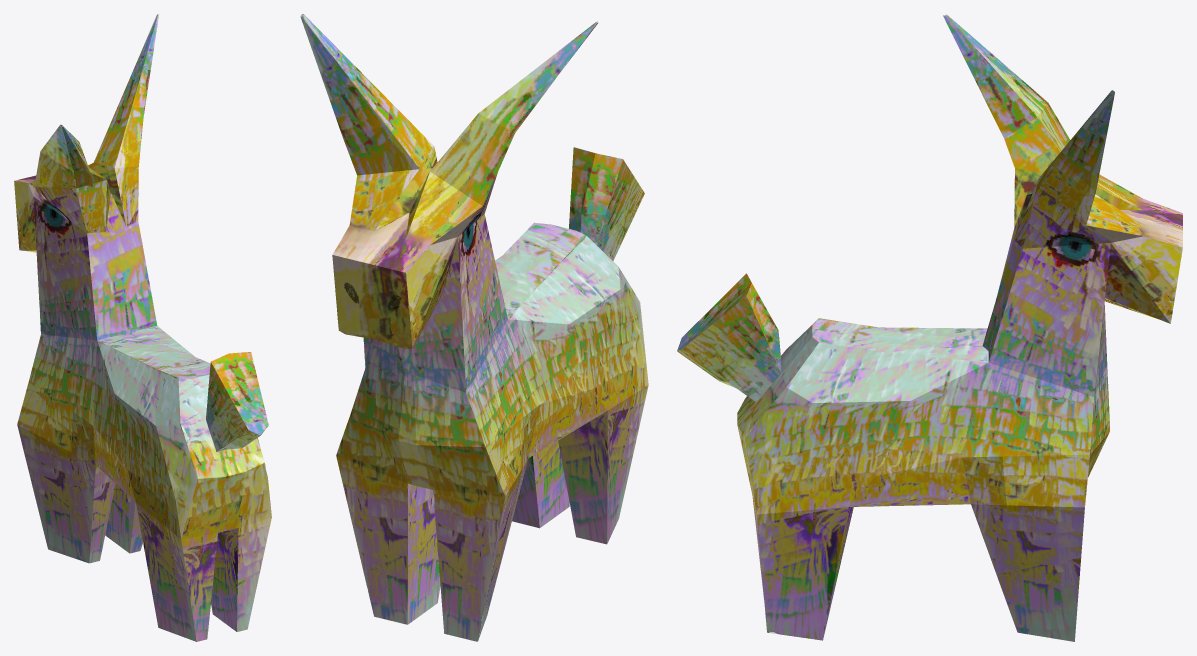
File: pinyata.fbx
3 renders of one model, left to right at view 1: azimuth 30°, elevation 25°; view 2: azimuth 150°, elevation 25°; view 3: azimuth 270°, elevation 25°, orthographic. The views are drawn at different scales.
Parts seen in each view (by area): view 1: Plane; view 2: Plane; view 3: Plane.
Boxes of the visible parts, left/top/right/bottom form: Plane: left=14, top=14, right=271, bottom=641; Plane: left=300, top=14, right=648, bottom=641; Plane: left=677, top=14, right=1182, bottom=641.
Bounding box in the file's own units: 115 × 319 × 254.
Materials: 1 (1 with a texture image).
